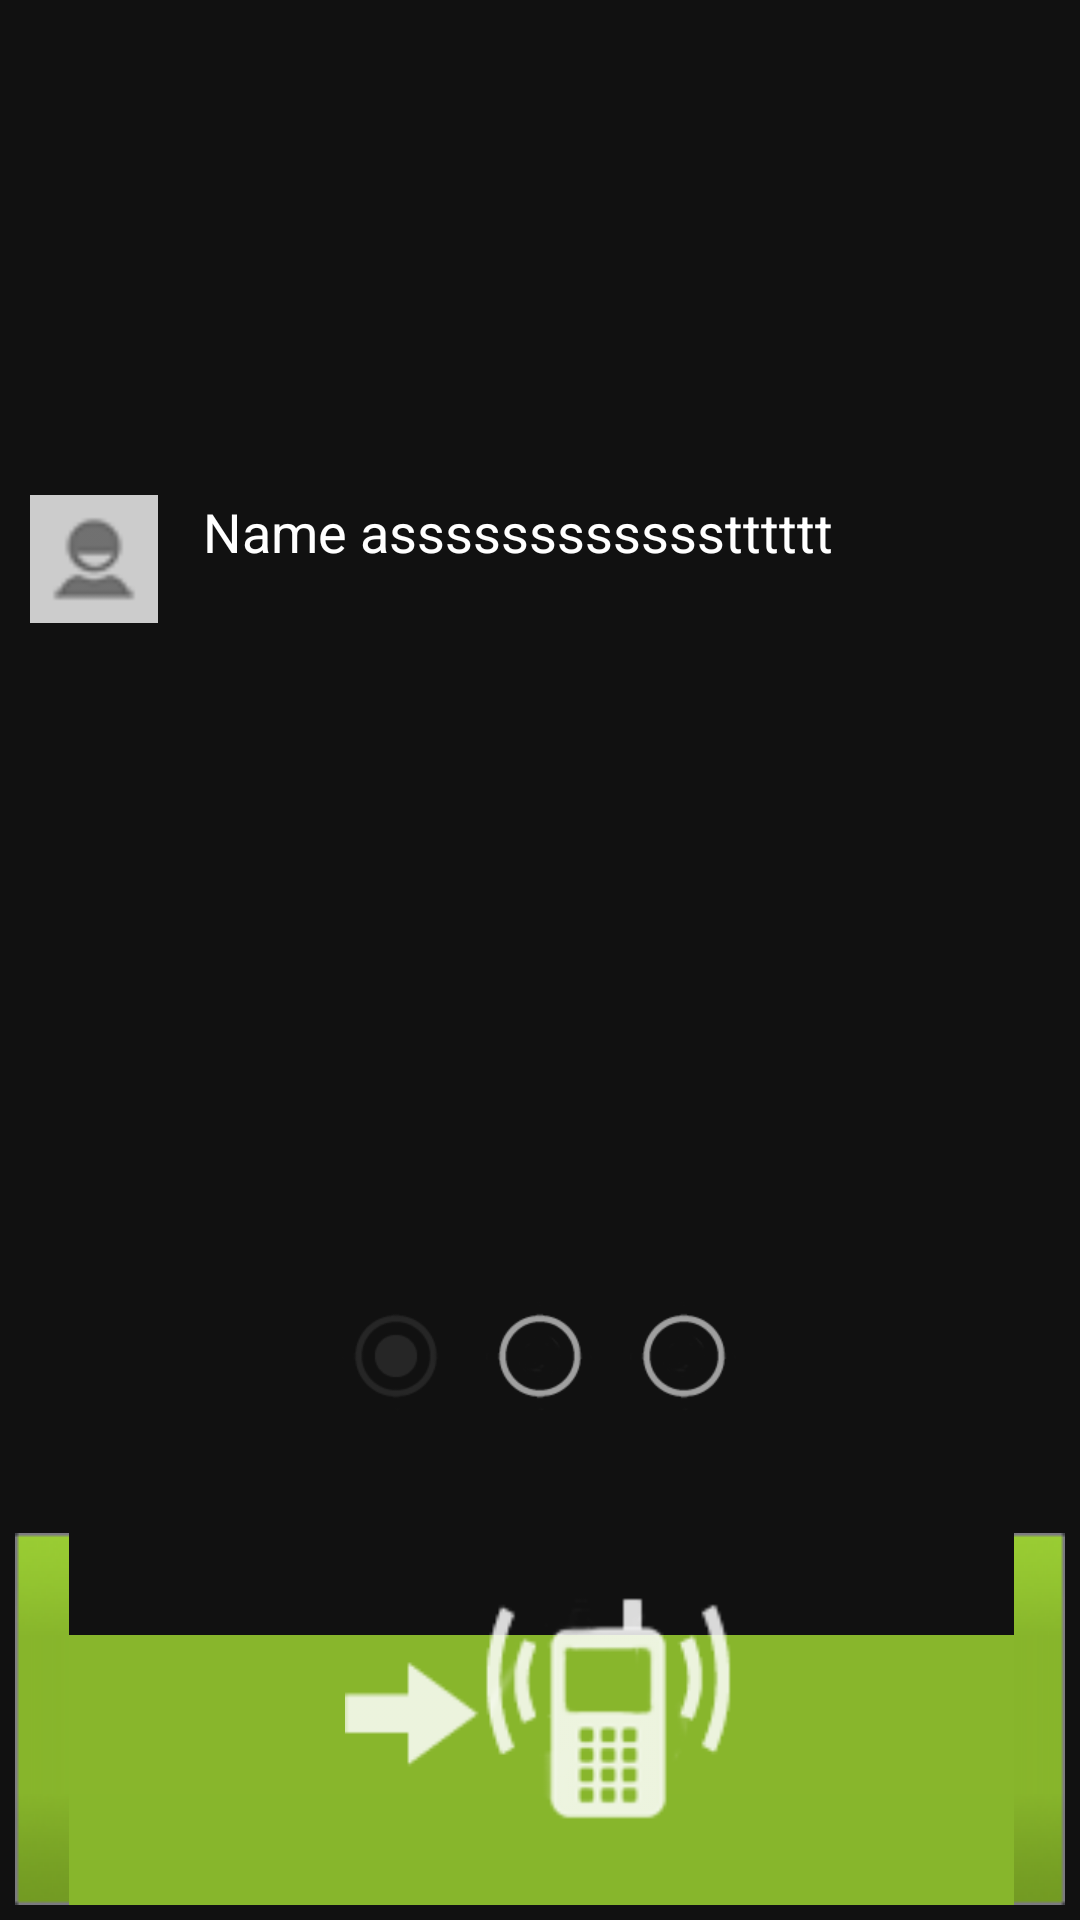

Named icons in this screenshot (1080 x 1920) and their centers, (x=x, y=y):
dot empty: (x=540, y=1356), (x=684, y=1356)
person: (x=94, y=559)
